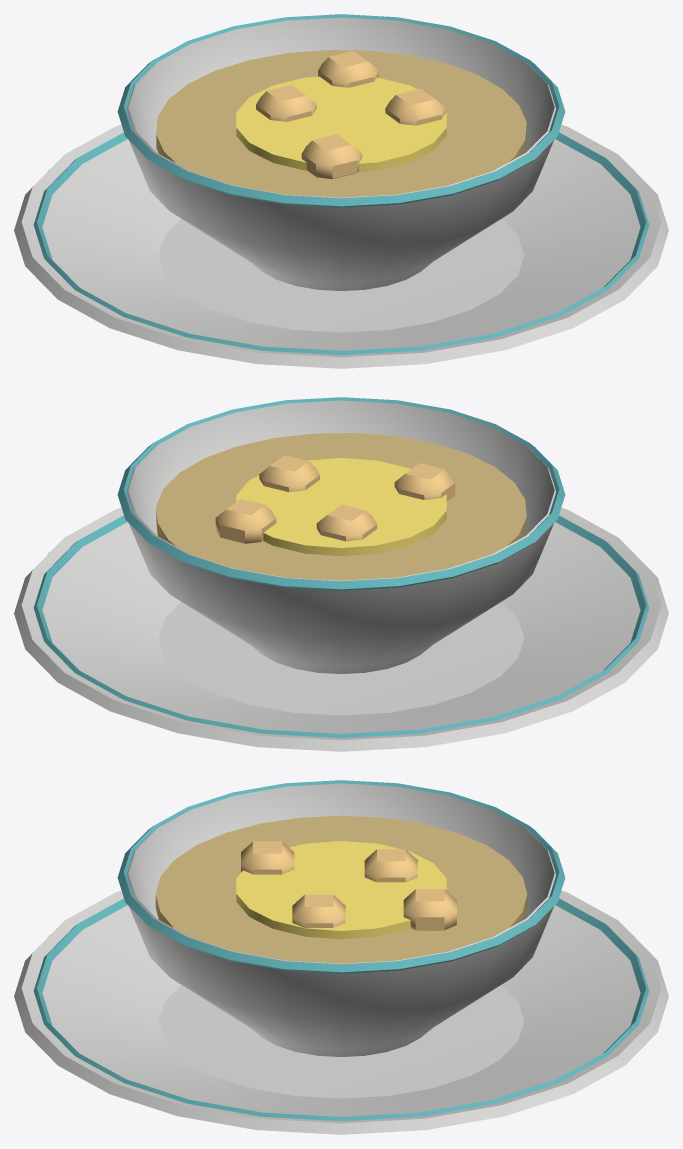
File: kr_dish_onion.glb
The picture shows the model from 3 angles, top to bottom: view 1: azimuth 30°, elevation 25°; view 2: azimuth 150°, elevation 25°; view 3: azimuth 270°, elevation 25°; orthographic projection.
Parts seen in each view (by area): view 1: vc_m0_r2, vc_m0_r4; view 2: vc_m0_r2, vc_m0_r4; view 3: vc_m0_r2, vc_m0_r4.
Boxes of the visible parts, bbox=[...] form: vc_m0_r2: bbox=[14, 17, 668, 368]; vc_m0_r4: bbox=[33, 14, 649, 354]; vc_m0_r2: bbox=[14, 400, 668, 751]; vc_m0_r4: bbox=[33, 397, 649, 737]; vc_m0_r2: bbox=[14, 783, 668, 1134]; vc_m0_r4: bbox=[33, 780, 649, 1120].
Size of the model in its own units: 0.43 by 0.1275 by 0.43.
